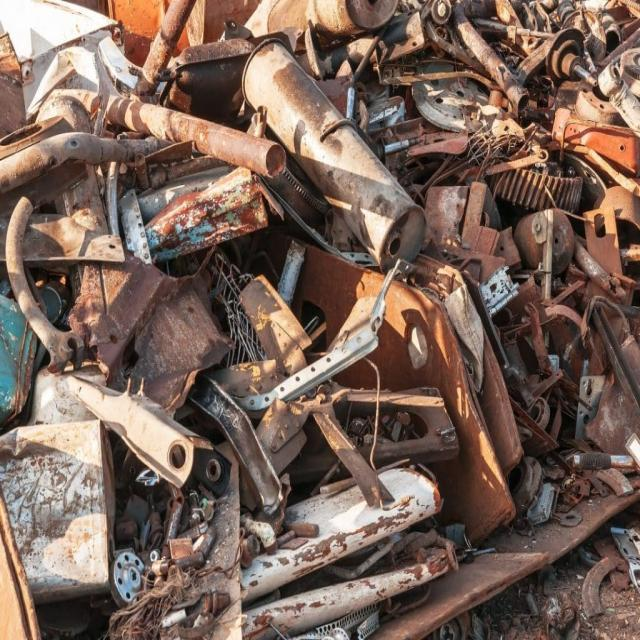Cylinder: (515, 209, 574, 277)
others: (243, 33, 430, 273)
